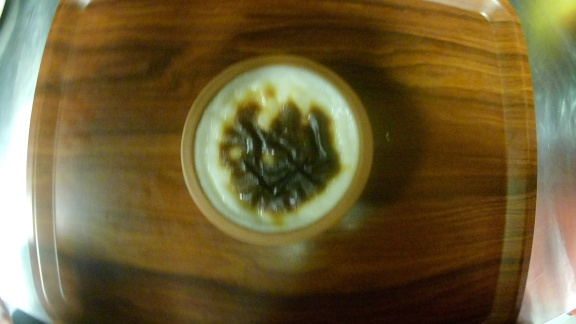sutlac: (180, 56, 375, 244)
